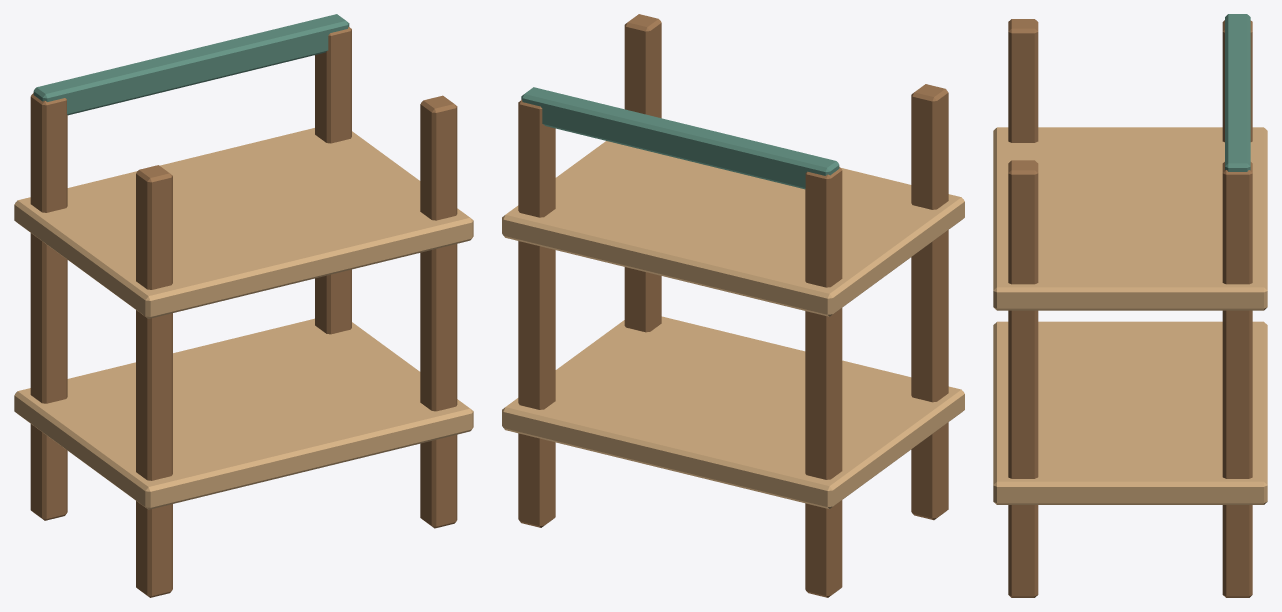
The picture shows the model from 3 angles, left to right: view 1: azimuth 30°, elevation 25°; view 2: azimuth 150°, elevation 25°; view 3: azimuth 270°, elevation 25°; orthographic projection.
Visible parts, largest first — view 1: village-nursery-rack-01; view 2: village-nursery-rack-01; view 3: village-nursery-rack-01.
Boxes of the visible parts, <box> form: village-nursery-rack-01: <box>14,14,473,597</box>; village-nursery-rack-01: <box>502,14,964,597</box>; village-nursery-rack-01: <box>993,14,1267,597</box>.
Size of the model in its own units: 0.9 by 1.12 by 0.64.
